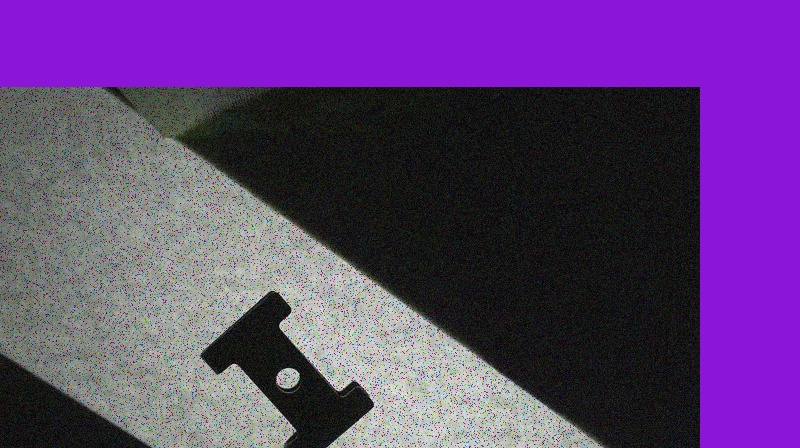O002: (193, 287, 375, 447)
